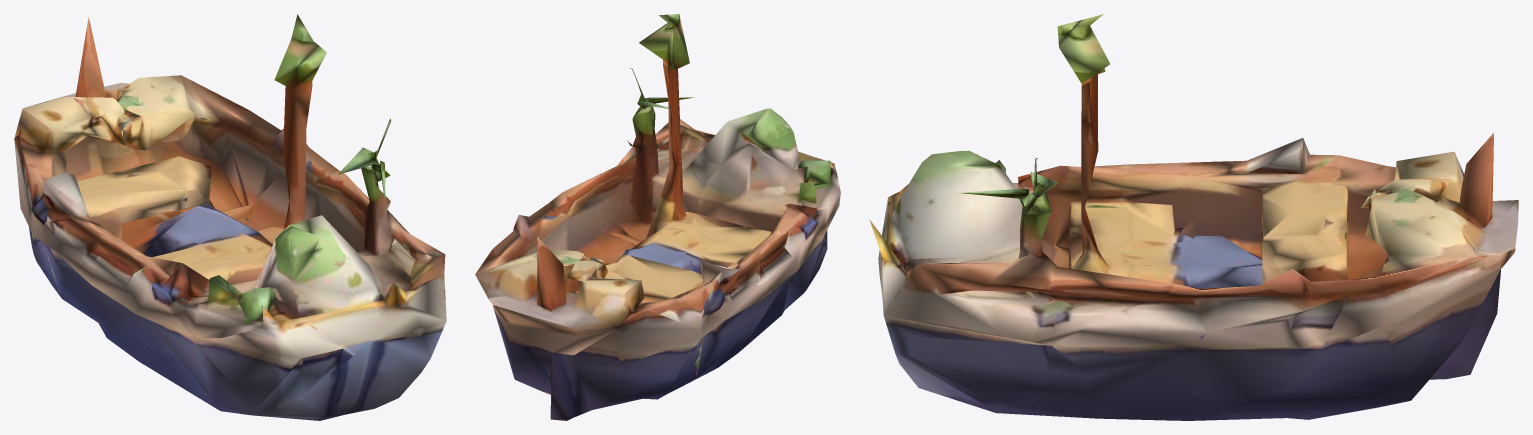
Rendered from tiny_boat.glb.
3 renders of one model, left to right at view 1: azimuth 30°, elevation 25°; view 2: azimuth 150°, elevation 25°; view 3: azimuth 270°, elevation 25°, orthographic. The views are drawn at different scales.
Visible parts, largest first — view 1: tripo_node_7ff631f9-c219-49b9-8fee-532595843533; view 2: tripo_node_7ff631f9-c219-49b9-8fee-532595843533; view 3: tripo_node_7ff631f9-c219-49b9-8fee-532595843533.
Part boxes in pixels (box(x1,y1,x2,y2)): tripo_node_7ff631f9-c219-49b9-8fee-532595843533: box(14, 14, 446, 420); tripo_node_7ff631f9-c219-49b9-8fee-532595843533: box(475, 14, 840, 420); tripo_node_7ff631f9-c219-49b9-8fee-532595843533: box(869, 14, 1518, 420).
Bounding box in the file's own units: 0.4905 × 0.6395 × 0.9642.
1 material, 1 textured.
